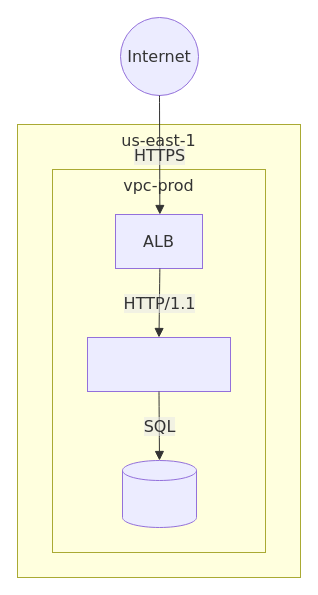
This 318x595 diagram has some shape labels left out. Here are the shapes that lost their labels. From the top down, the centre of each, then its label:
At [158,364]: "App service".
At [159,494]: "Postgres".
